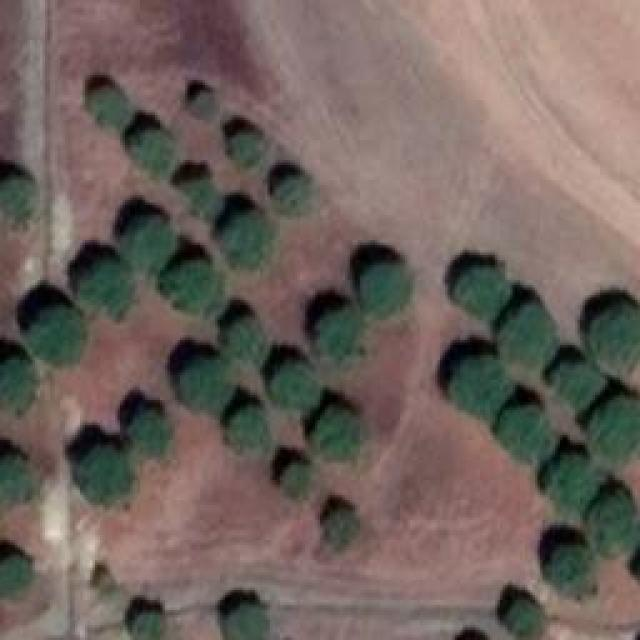Tree: (75, 443, 133, 508), (163, 260, 226, 315), (453, 353, 506, 416), (587, 304, 640, 367), (590, 490, 640, 555), (27, 305, 85, 360), (500, 305, 553, 365), (80, 263, 135, 318), (550, 450, 605, 505), (120, 215, 175, 268), (218, 210, 271, 265), (182, 358, 230, 418), (495, 408, 550, 458), (360, 260, 413, 310), (310, 408, 363, 458), (458, 268, 508, 321), (547, 545, 595, 600), (312, 310, 360, 363), (600, 395, 640, 458), (0, 457, 38, 515), (0, 358, 40, 413), (553, 365, 598, 413), (218, 320, 268, 363), (270, 363, 315, 408), (85, 85, 128, 130), (130, 410, 173, 455), (230, 405, 270, 453), (0, 178, 40, 221), (130, 130, 175, 168), (173, 177, 216, 215), (223, 605, 268, 640), (277, 175, 315, 215), (0, 555, 35, 595), (503, 598, 538, 638), (277, 463, 315, 496), (228, 133, 263, 163), (128, 610, 163, 640), (188, 90, 221, 120), (330, 508, 360, 541)
